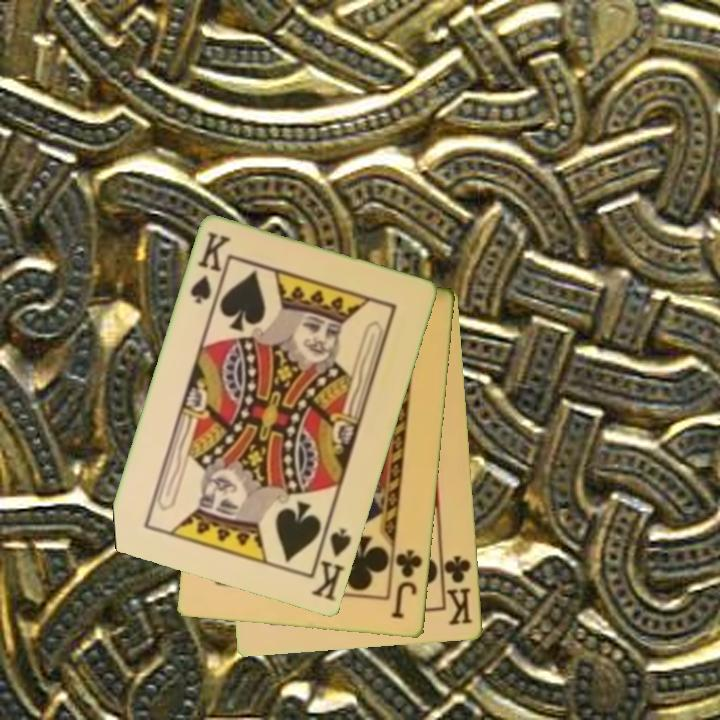Jc: (389, 546, 426, 622)
Kc: (439, 548, 476, 629)
Ks: (308, 519, 355, 605), (187, 228, 234, 308)
